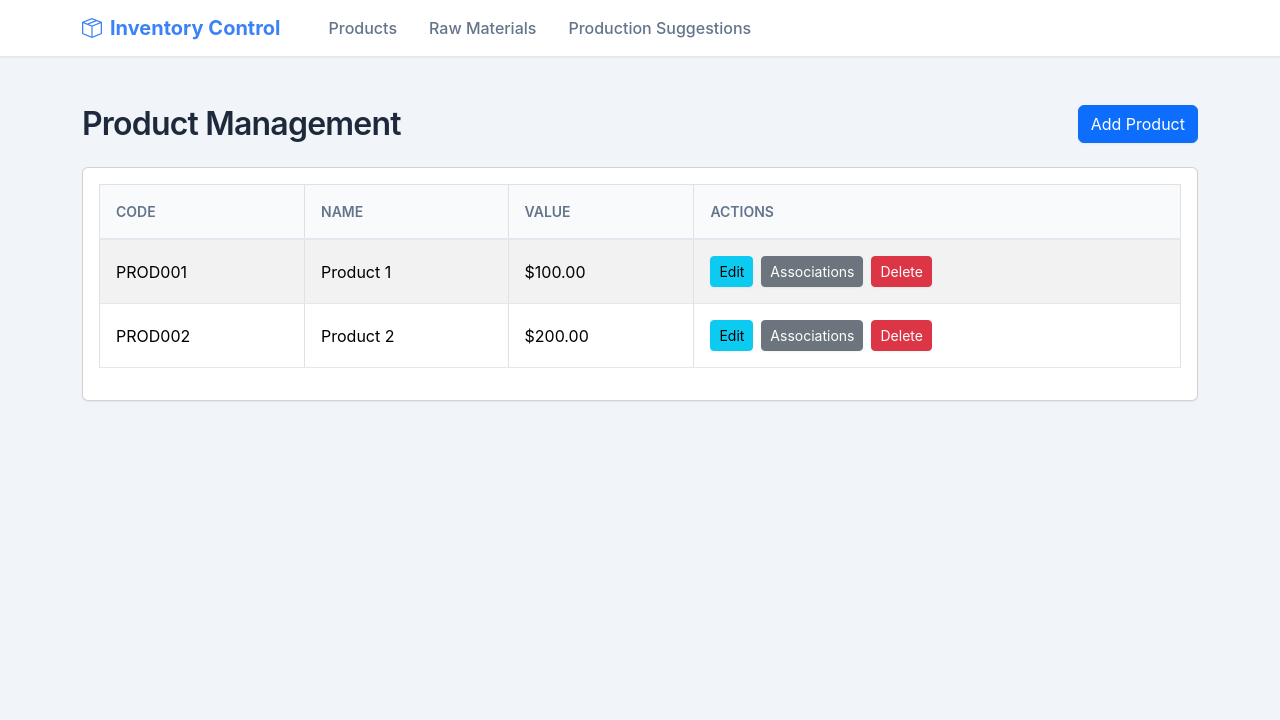
Test: Product Management › should create a new product
Click the button "Add Product" at (1138, 124), box [1078, 105, 1198, 143]
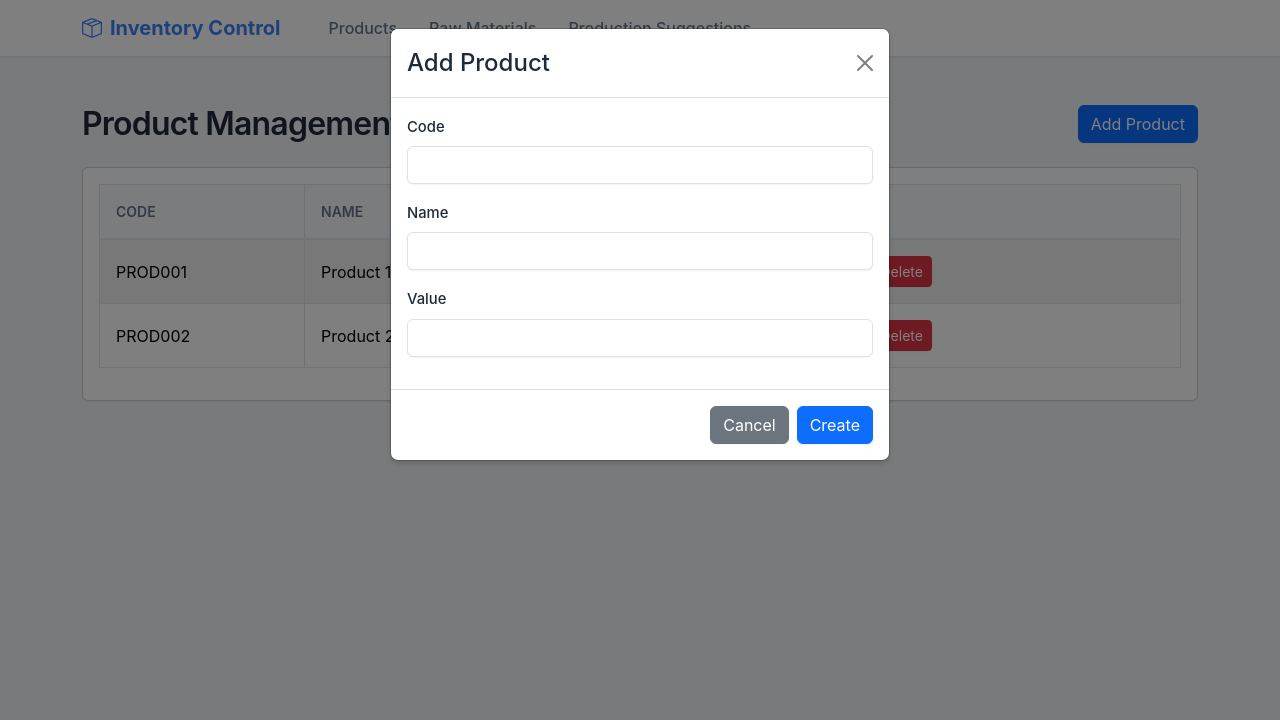
Type "PROD003" into the 1st field at (640, 165), box [407, 146, 873, 184]
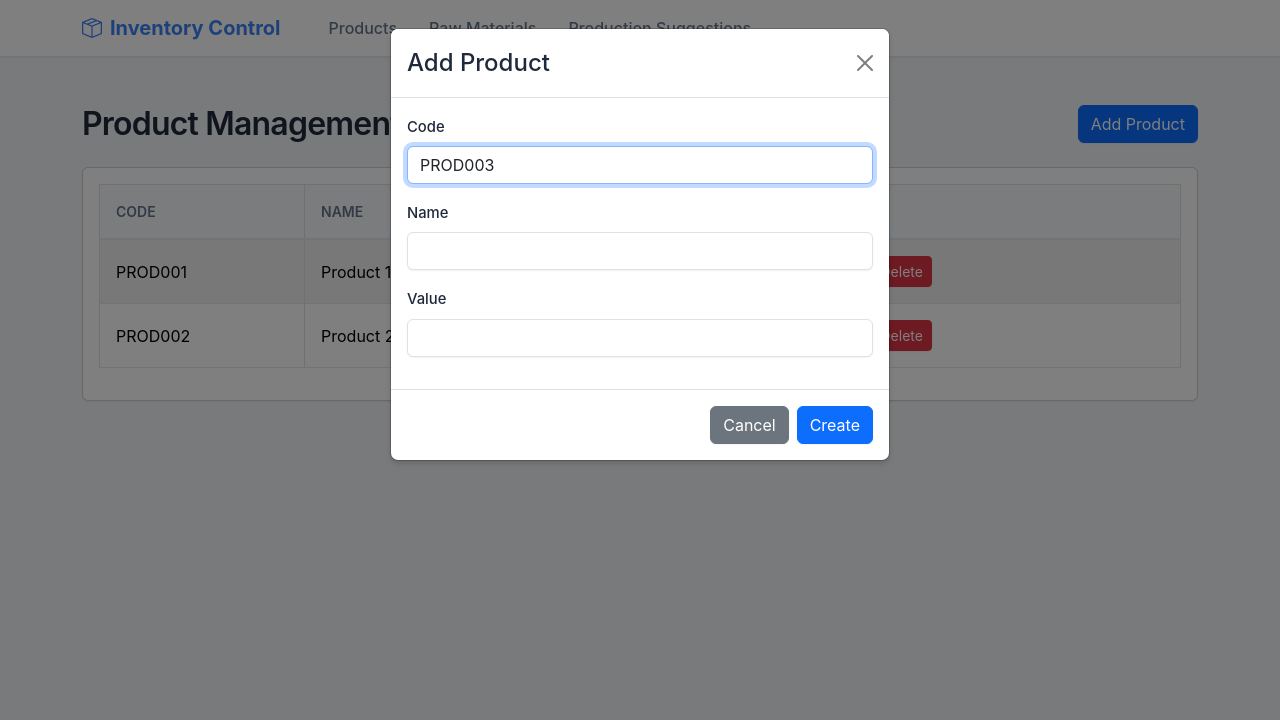
Type "New Product" into the 2nd field at (640, 251), box [407, 232, 873, 270]
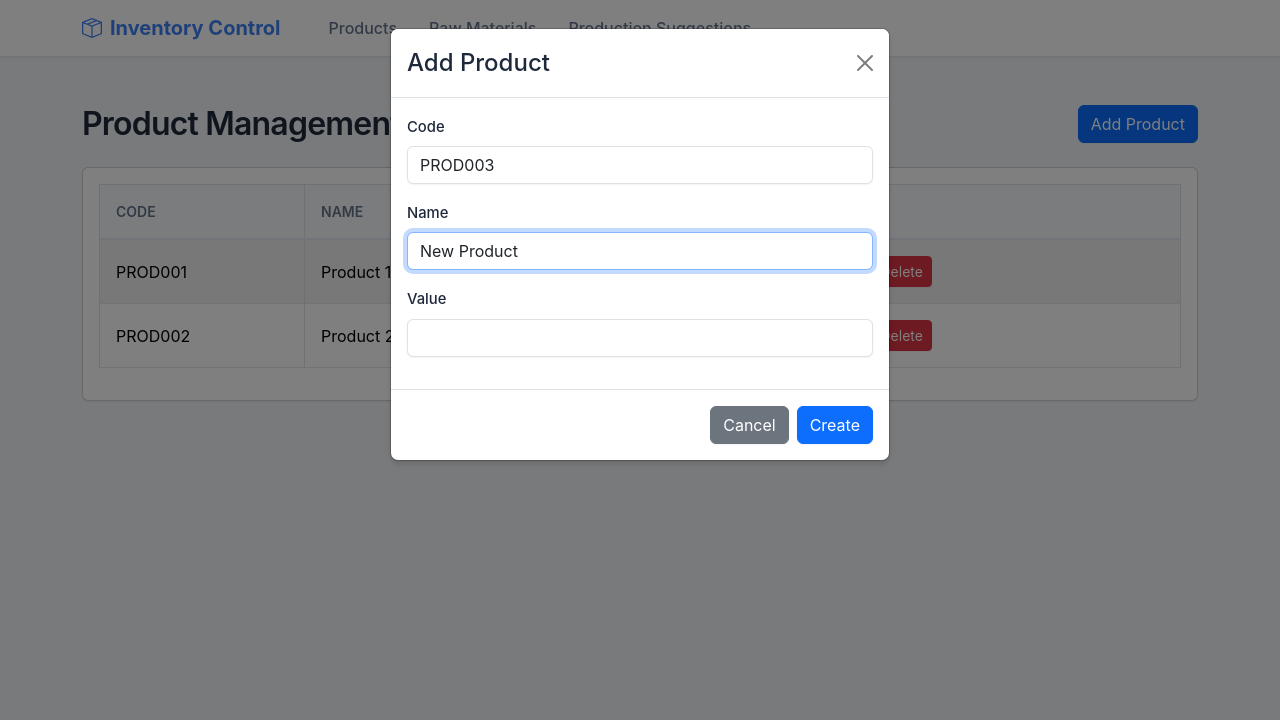
Type "100.00" into the number field at (640, 338), box [407, 319, 873, 357]
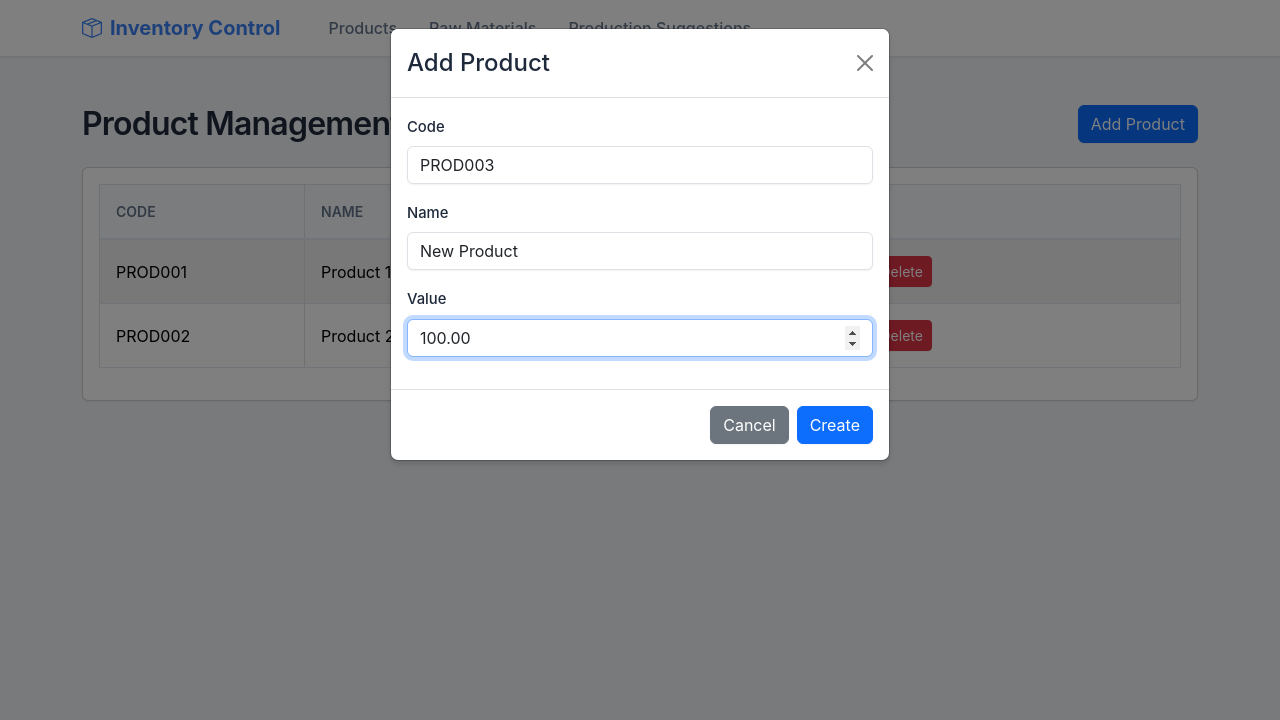
Click the button "Create" at (835, 425), box [797, 406, 873, 444]
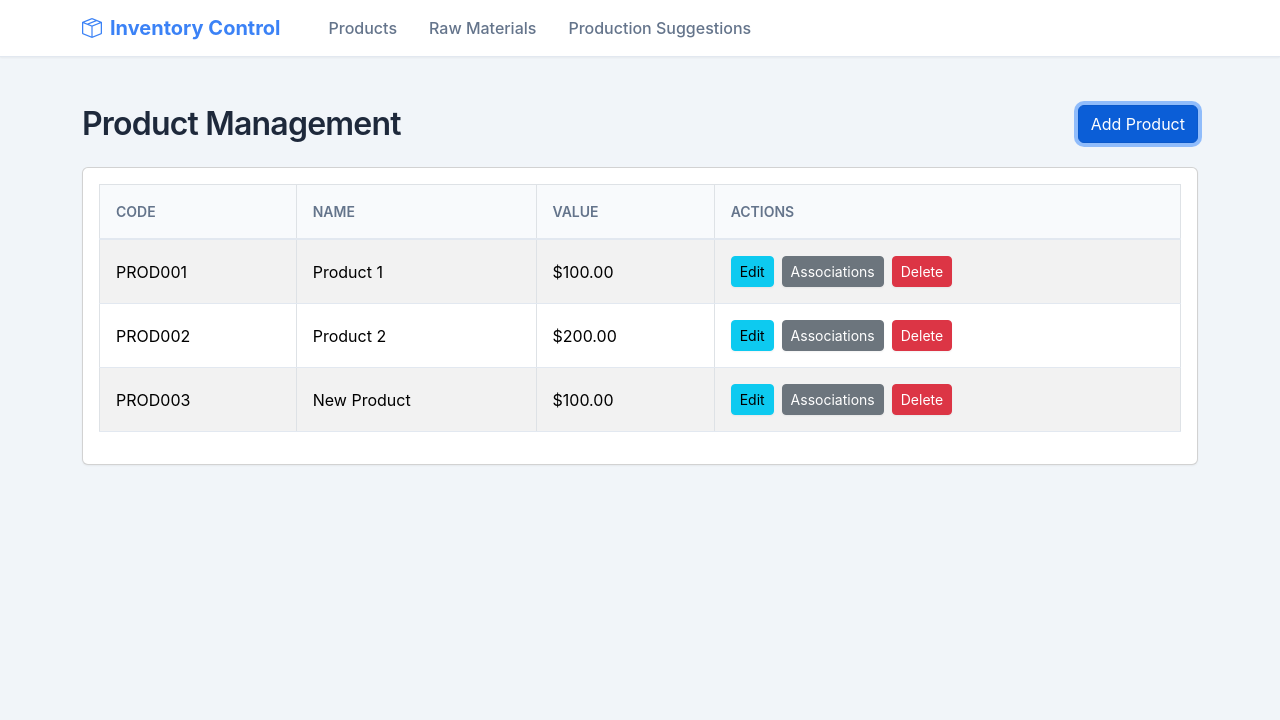
Now the text "PROD003" is shown, box [100, 368, 296, 432]
